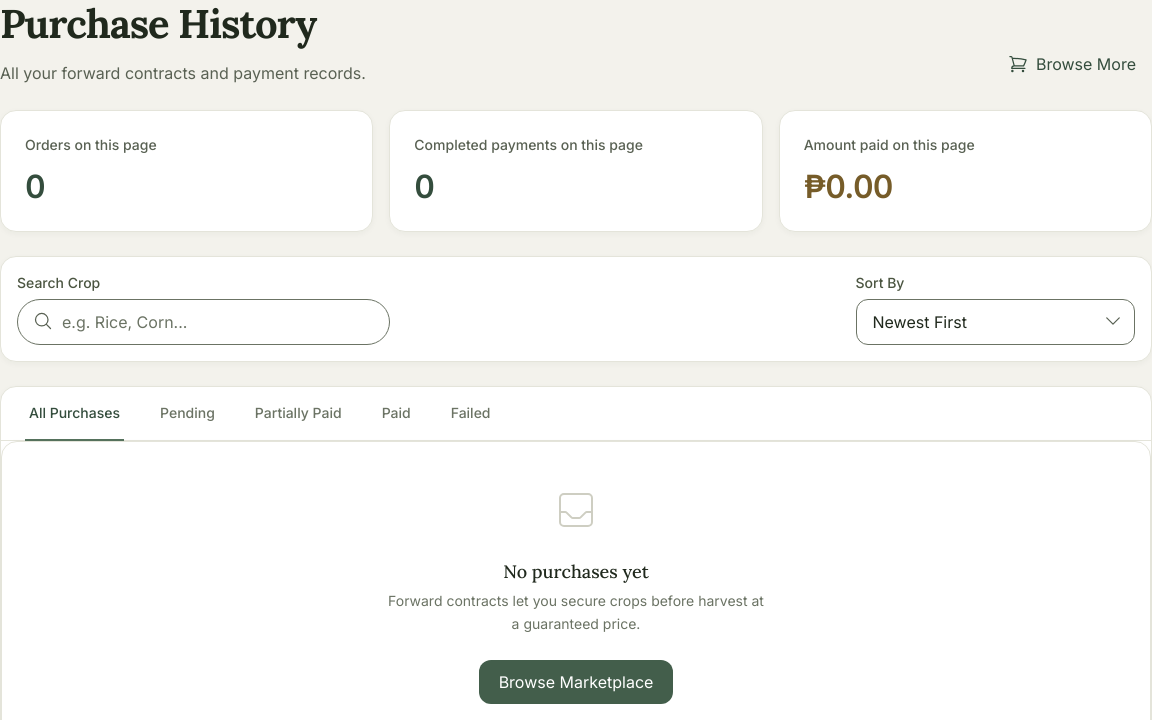
Test: MyPurchasesPage status tabs › shows a tab-specific empty state
Click the button "Failed" at (471, 414), box [447,387,494,441]
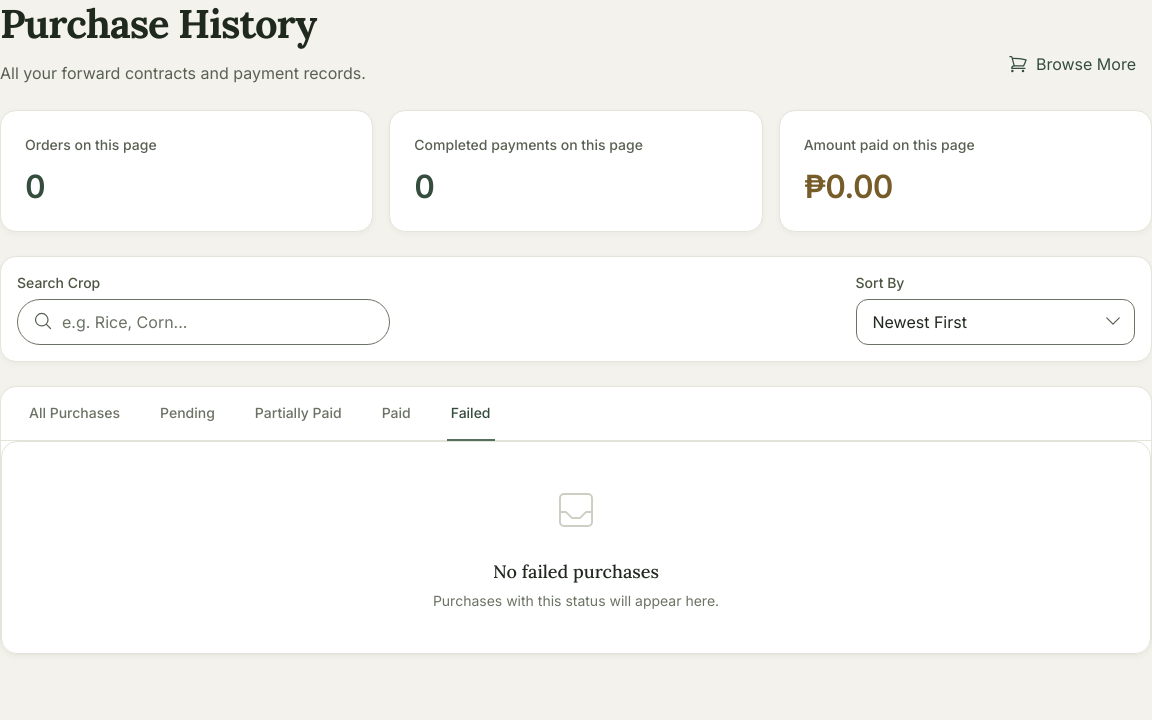
expect the text "No failed purchases" is shown: met, box [493,560,659,583]
